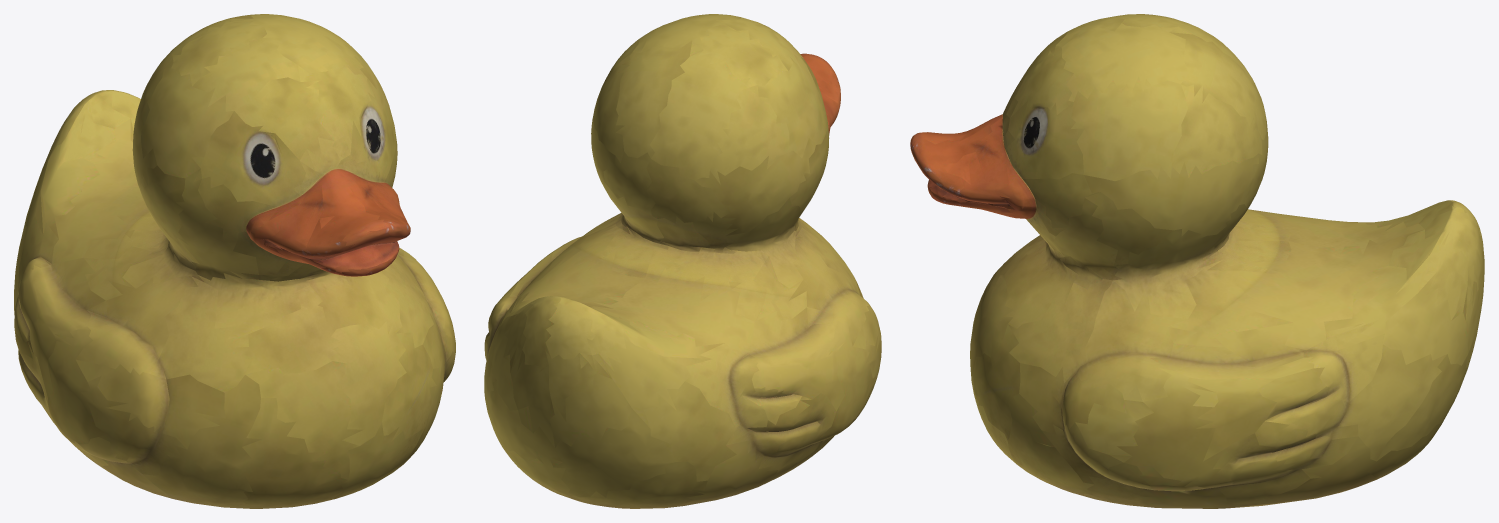
Rendered from paperella.glb.
The picture shows the model from 3 angles, left to right: view 1: azimuth 30°, elevation 25°; view 2: azimuth 150°, elevation 25°; view 3: azimuth 270°, elevation 25°; orthographic projection. The views are drawn at different scales.
Visible parts, largest first — view 1: paperella; view 2: paperella; view 3: paperella.
Part boxes in pixels (x1,y1,x2,y2): paperella: [14, 14, 455, 508]; paperella: [484, 14, 881, 508]; paperella: [910, 14, 1484, 508].
Bounding box in the file's own units: 0.4426 × 0.497 × 0.62.
1 material, 1 textured.
